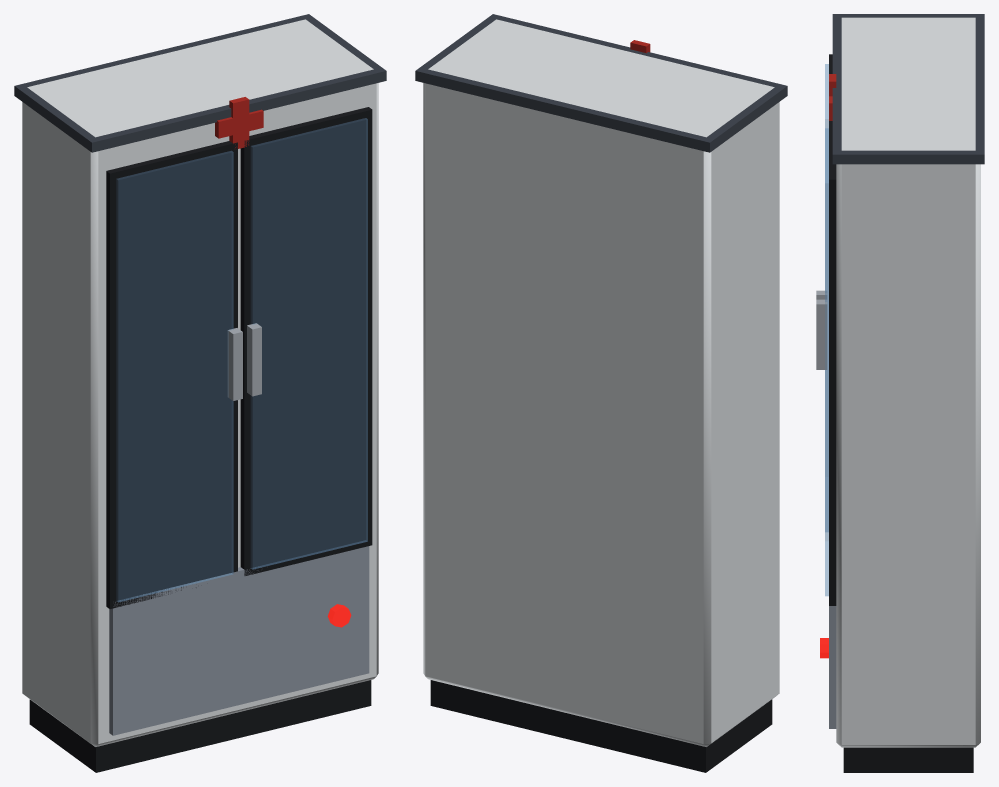
Rendered from medcabinet_medicine_cabinet.glb.
The picture shows the model from 3 angles, left to right: view 1: azimuth 30°, elevation 25°; view 2: azimuth 150°, elevation 25°; view 3: azimuth 270°, elevation 25°; orthographic projection. The views are drawn at different scales.
Parts seen in each view (by area): view 1: medcabinet_medicine_cabinet; view 2: medcabinet_medicine_cabinet; view 3: medcabinet_medicine_cabinet.
Part boxes in pixels (box(x1,y1,x2,y2)): medcabinet_medicine_cabinet: box(14, 14, 386, 772); medcabinet_medicine_cabinet: box(415, 14, 787, 772); medcabinet_medicine_cabinet: box(816, 14, 984, 772).
Size of the model in its own units: 0.92 by 1.92 by 0.465.
